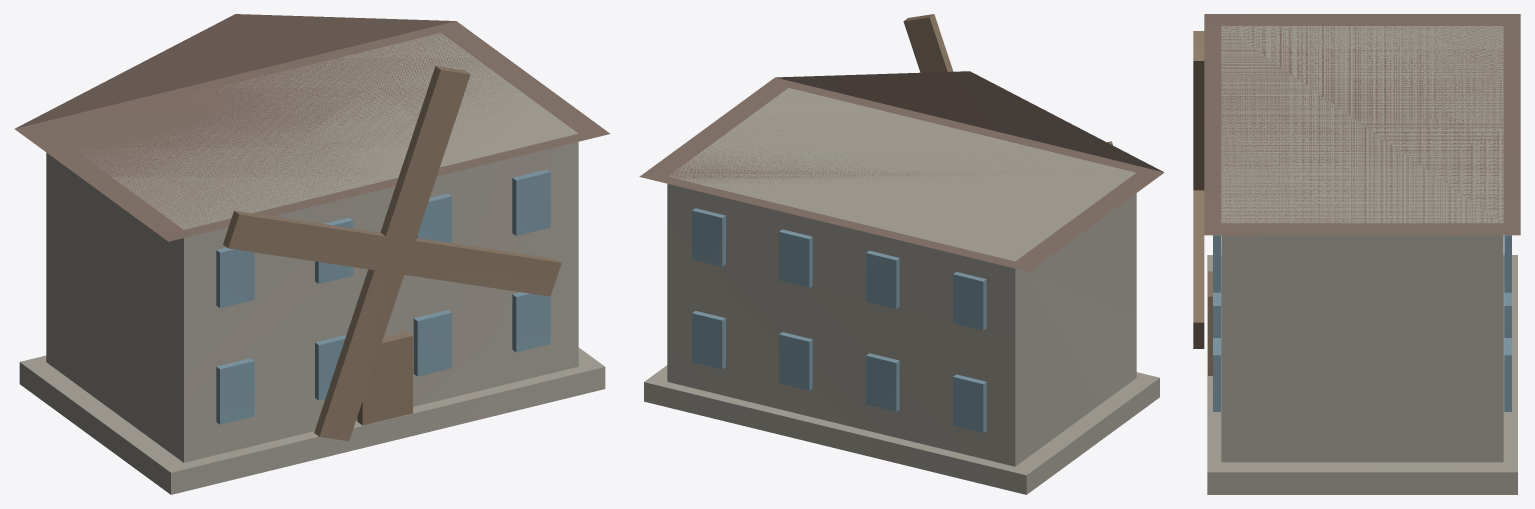
Rendered from windmill-03.glb.
3 views of the same model, side by side, from view 1: azimuth 30°, elevation 25°; view 2: azimuth 150°, elevation 25°; view 3: azimuth 270°, elevation 25° (orthographic). The views are drawn at different scales.
Parts seen in each view (by area): view 1: world; view 2: world; view 3: world.
Boxes of the visible parts, <box> form: world: <box>15,14,610,494</box>; world: <box>639,14,1164,494</box>; world: <box>1193,14,1520,494</box>.
Size of the model in its own units: 1.67 by 1.32 by 1.04.
